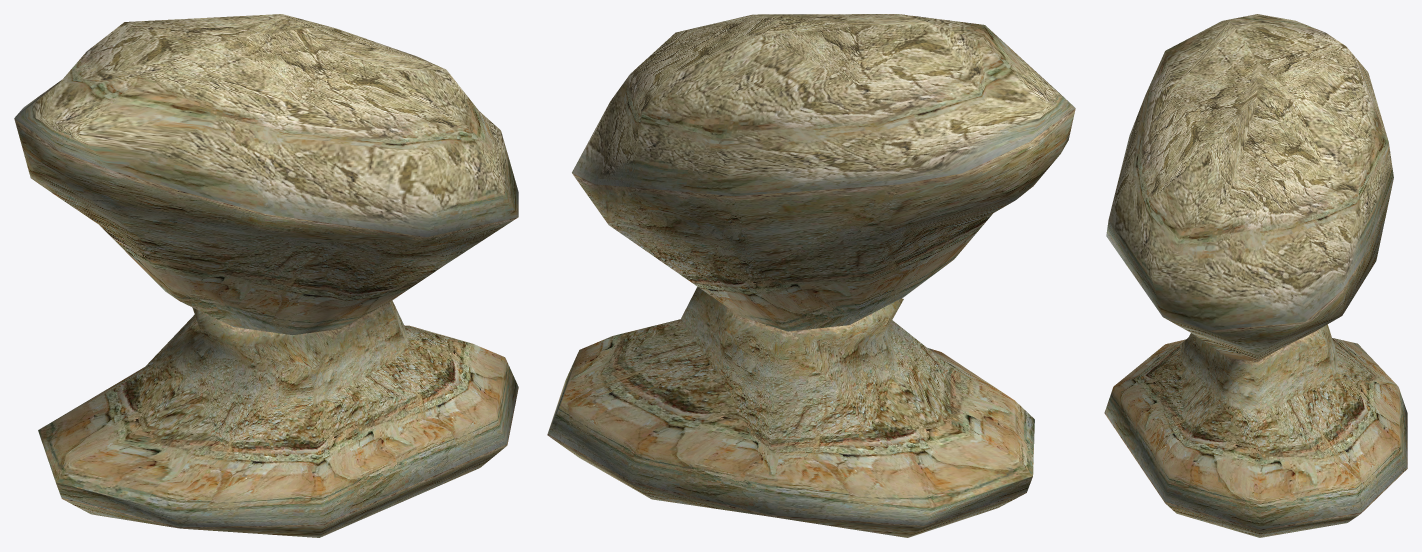
The model's file is dsrt_endr_column_a2_l1.fbx.
3 renders of one model, left to right at view 1: azimuth 30°, elevation 25°; view 2: azimuth 150°, elevation 25°; view 3: azimuth 270°, elevation 25°, orthographic. The views are drawn at different scales.
Visible parts, largest first — view 1: mesh_node; view 2: mesh_node; view 3: mesh_node.
Boxes of the visible parts, <box> form: mesh_node: <box>14,14,518,537</box>; mesh_node: <box>547,14,1075,537</box>; mesh_node: <box>1104,14,1407,537</box>.
Bounding box in the file's own units: 12.96 × 12.38 × 8.31.
